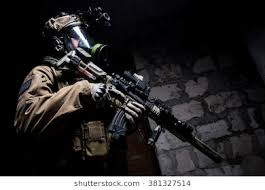Gun: (105, 78, 203, 146)
